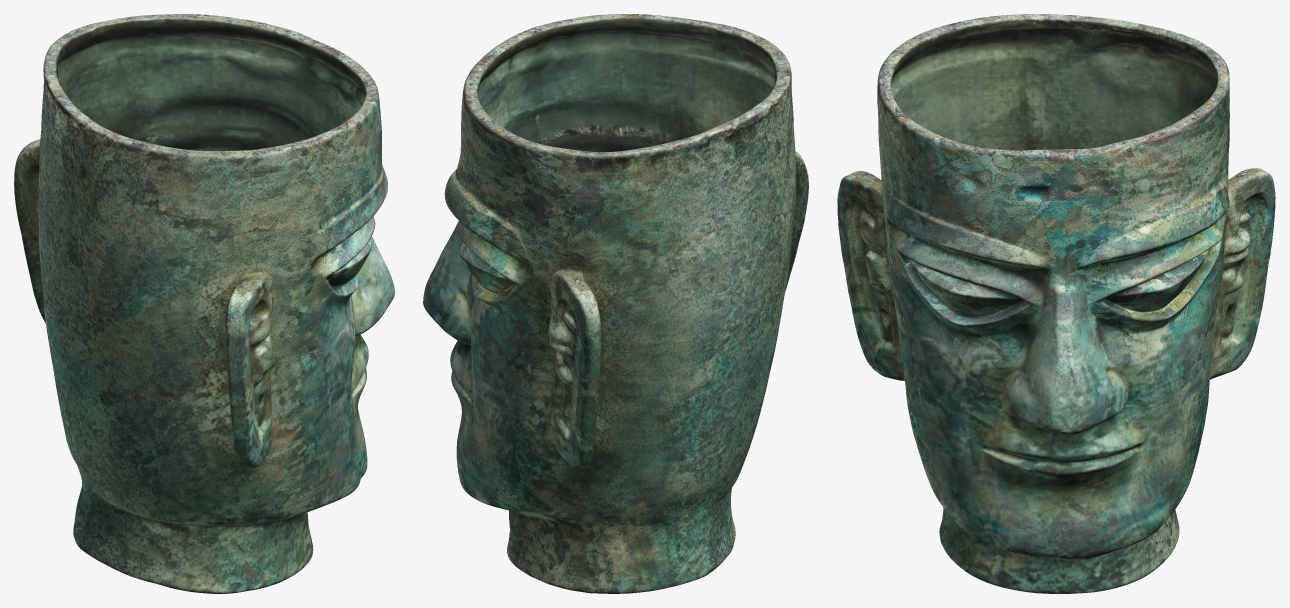
The model's file is bronze-head-web-mobile.glb.
The picture shows the model from 3 angles, left to right: view 1: azimuth 30°, elevation 25°; view 2: azimuth 150°, elevation 25°; view 3: azimuth 270°, elevation 25°; orthographic projection.
Parts seen in each view (by area): view 1: tripo_node_1d5d6238-d876-4f96-a7d3-8cf36552cf0d; view 2: tripo_node_1d5d6238-d876-4f96-a7d3-8cf36552cf0d; view 3: tripo_node_1d5d6238-d876-4f96-a7d3-8cf36552cf0d.
Boxes of the visible parts, x1,y1,x2,y2 form: tripo_node_1d5d6238-d876-4f96-a7d3-8cf36552cf0d: (14, 14, 394, 593); tripo_node_1d5d6238-d876-4f96-a7d3-8cf36552cf0d: (423, 14, 808, 593); tripo_node_1d5d6238-d876-4f96-a7d3-8cf36552cf0d: (837, 14, 1275, 593).
Bounding box in the file's own units: 0.72 × 0.9802 × 0.8269.
1 material, 1 textured.
